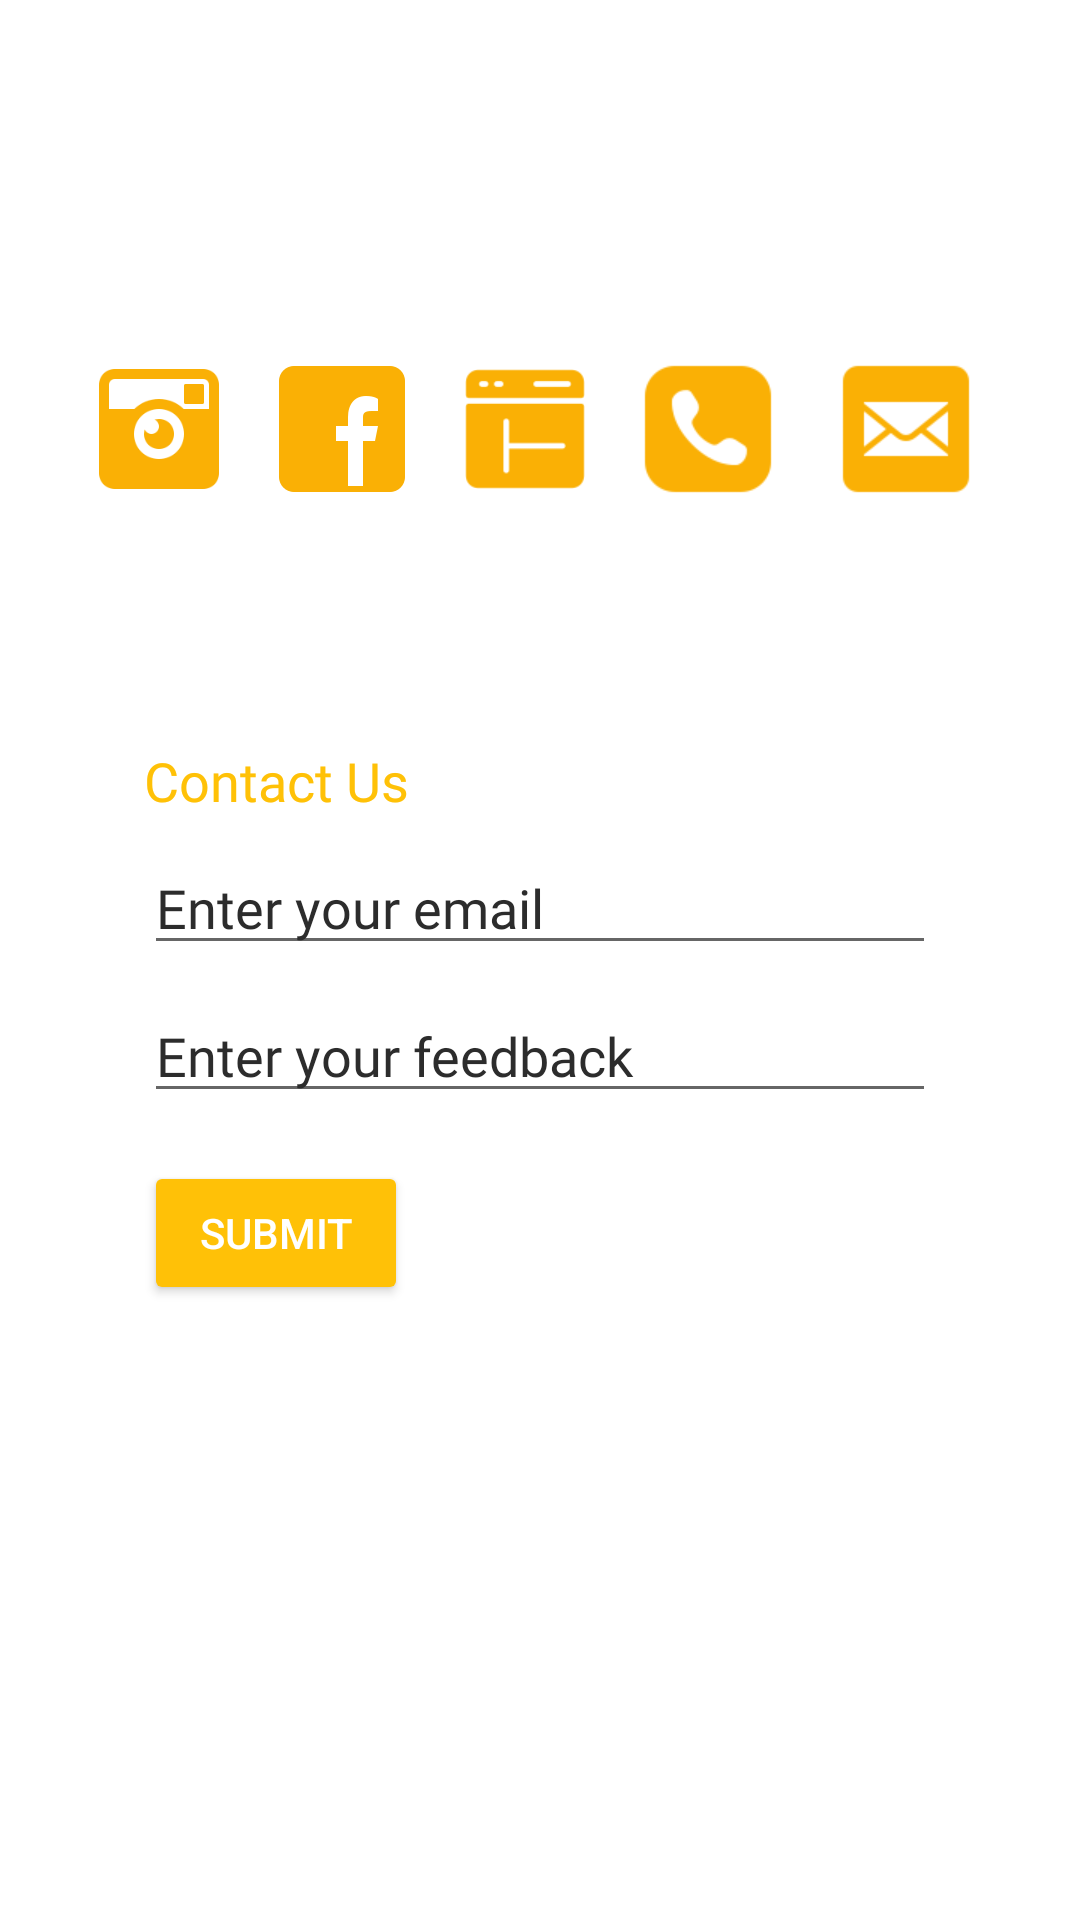

Icons on this 1080px x 1920px Android screen, each with the point to tap as (x=x, y=y):
call: (x=708, y=429)
email: (x=906, y=429)
website: (x=525, y=429)
